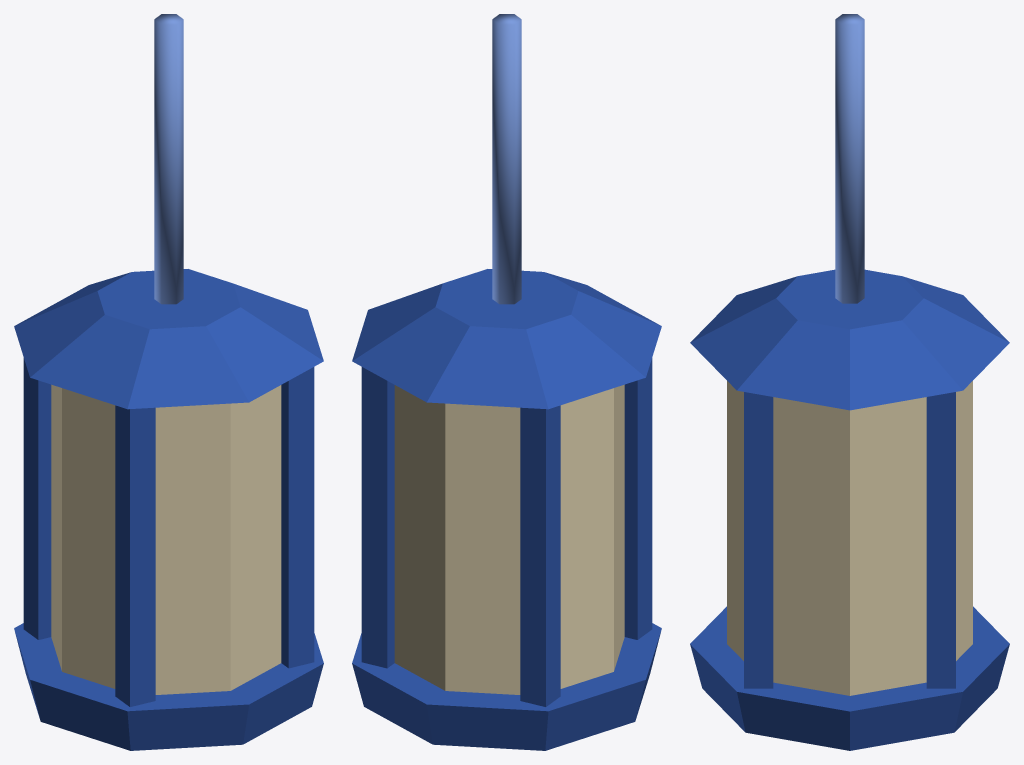
The model's file is mushroom_lantern_v0.glb.
3 views of the same model, side by side, from view 1: azimuth 30°, elevation 25°; view 2: azimuth 150°, elevation 25°; view 3: azimuth 270°, elevation 25° (orthographic).
Visible parts, largest first — view 1: mushroom_lantern_v0; view 2: mushroom_lantern_v0; view 3: mushroom_lantern_v0.
Part boxes in pixels (x1,y1,x2,y2): mushroom_lantern_v0: [14, 14, 323, 750]; mushroom_lantern_v0: [352, 14, 661, 750]; mushroom_lantern_v0: [690, 14, 1009, 750].
Bounding box in the file's own units: 0.26 × 0.6 × 0.26.
